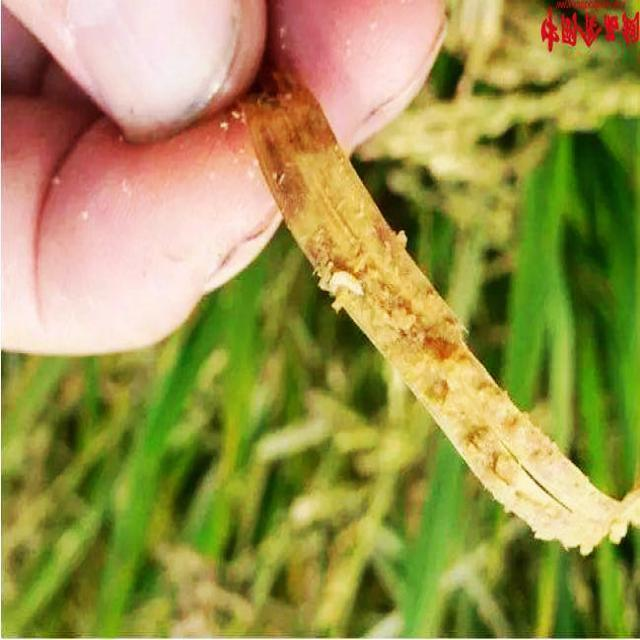whorl-maggot: (329, 262, 367, 302)
